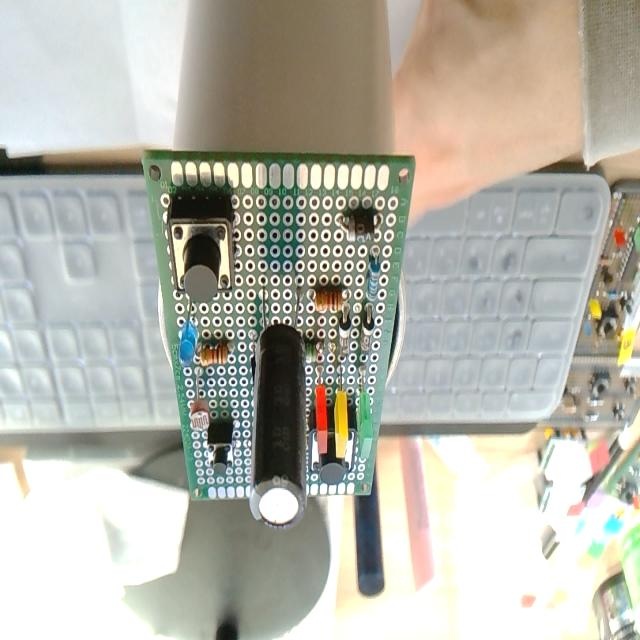Electrolytic capacitor: (250, 281, 310, 526)
cds: (190, 371, 210, 431)
diode: (336, 209, 382, 243), (360, 307, 374, 357), (338, 311, 351, 359)
led: (356, 364, 372, 459), (334, 354, 348, 456), (314, 356, 328, 454), (178, 301, 198, 368)
resistor: (197, 340, 235, 368), (315, 288, 343, 312), (366, 258, 381, 300), (308, 336, 316, 370)
switch: (168, 192, 235, 300), (308, 398, 358, 480), (207, 422, 234, 478)
